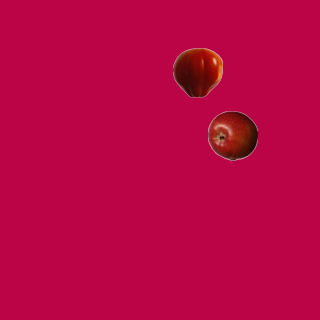Apple Braeburn: (207, 110, 257, 160)
Tomato 1: (172, 47, 222, 97)
